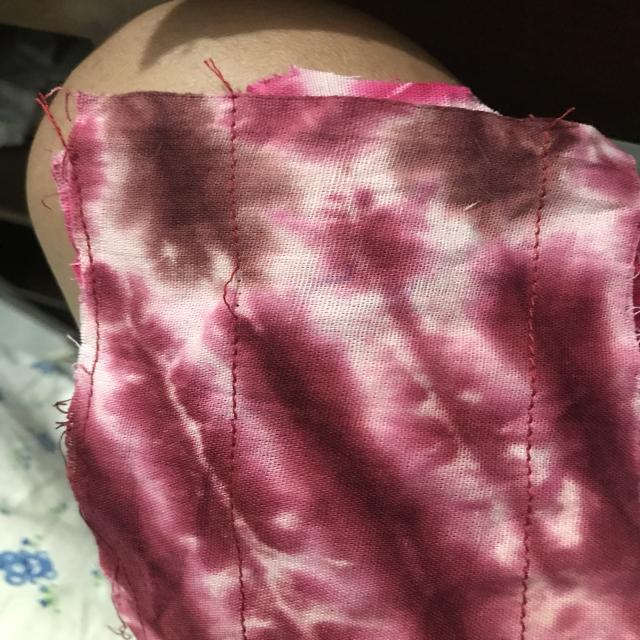good: (508, 392, 546, 496)
skip: (200, 253, 263, 330)
